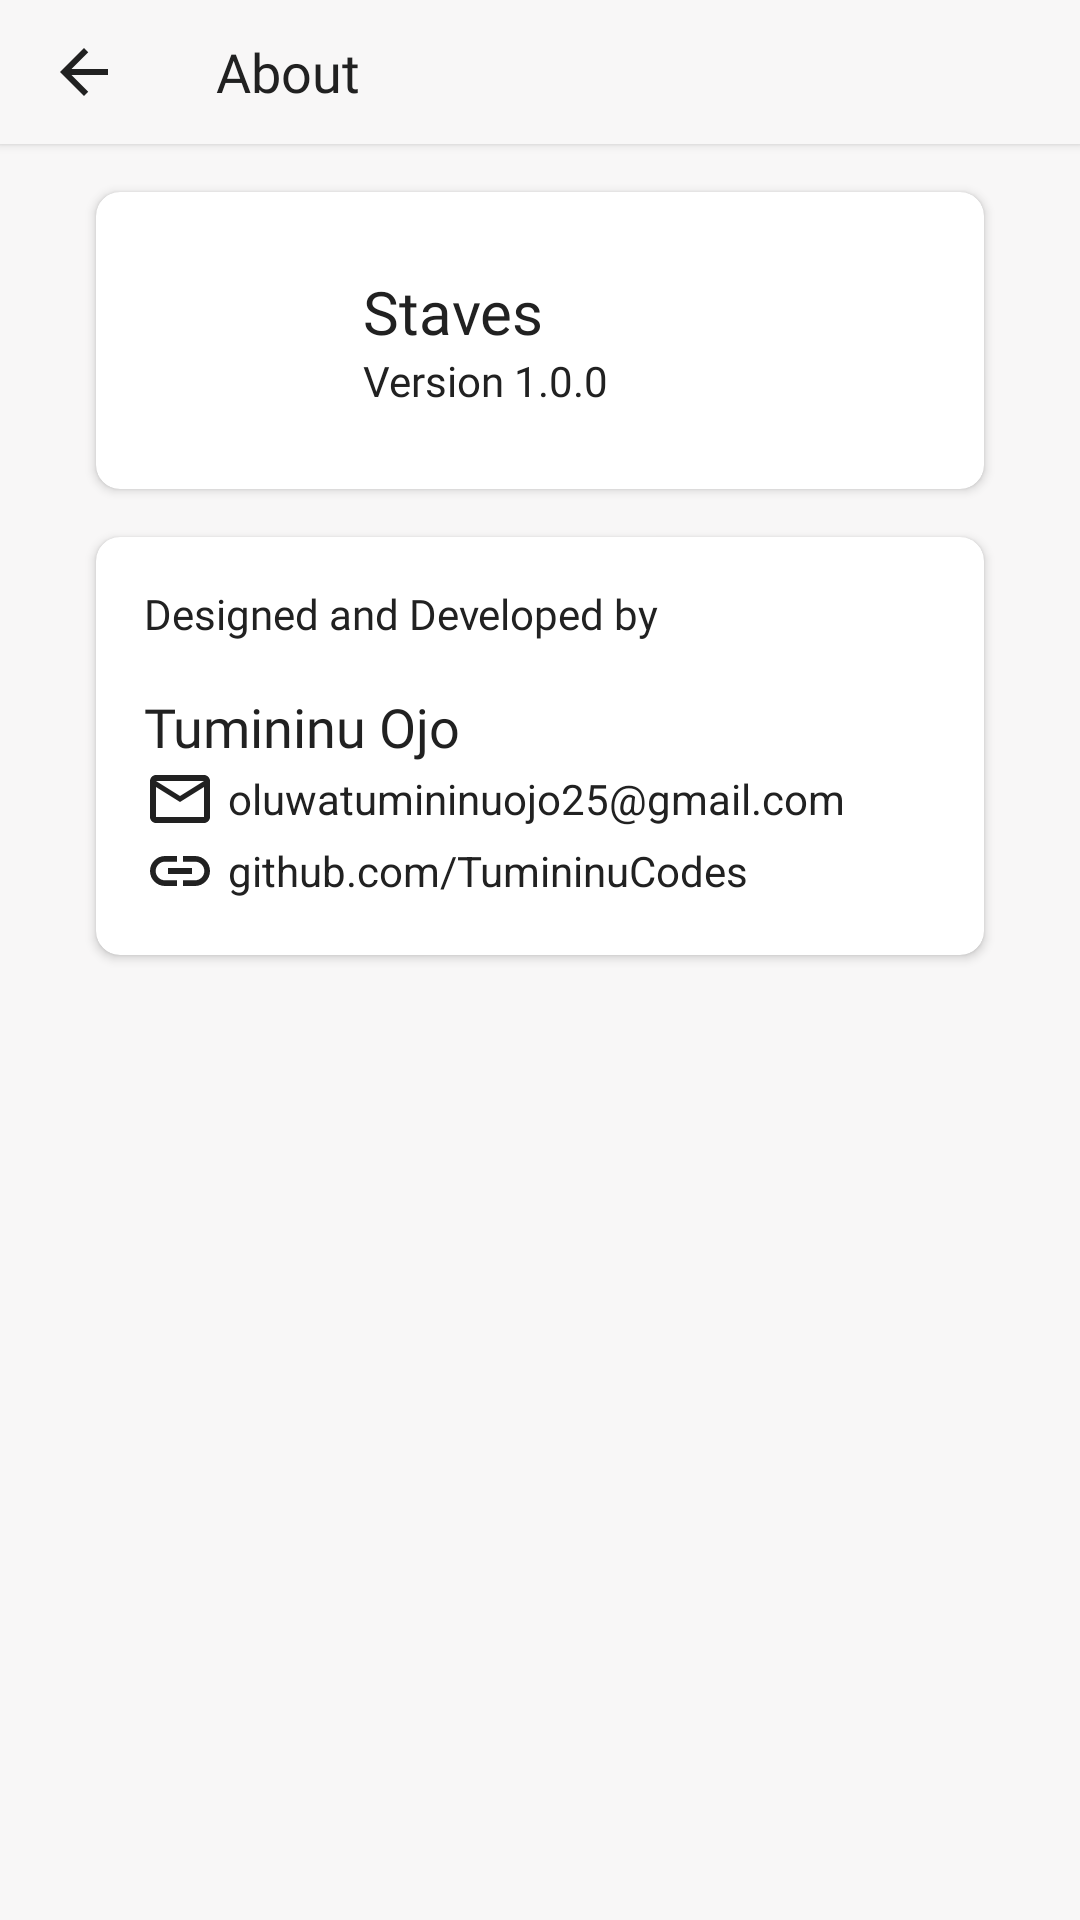

Point at icon controls on the screen. Image size 1080*1920, points as (x=x, y=y).
link: (x=180, y=871)
